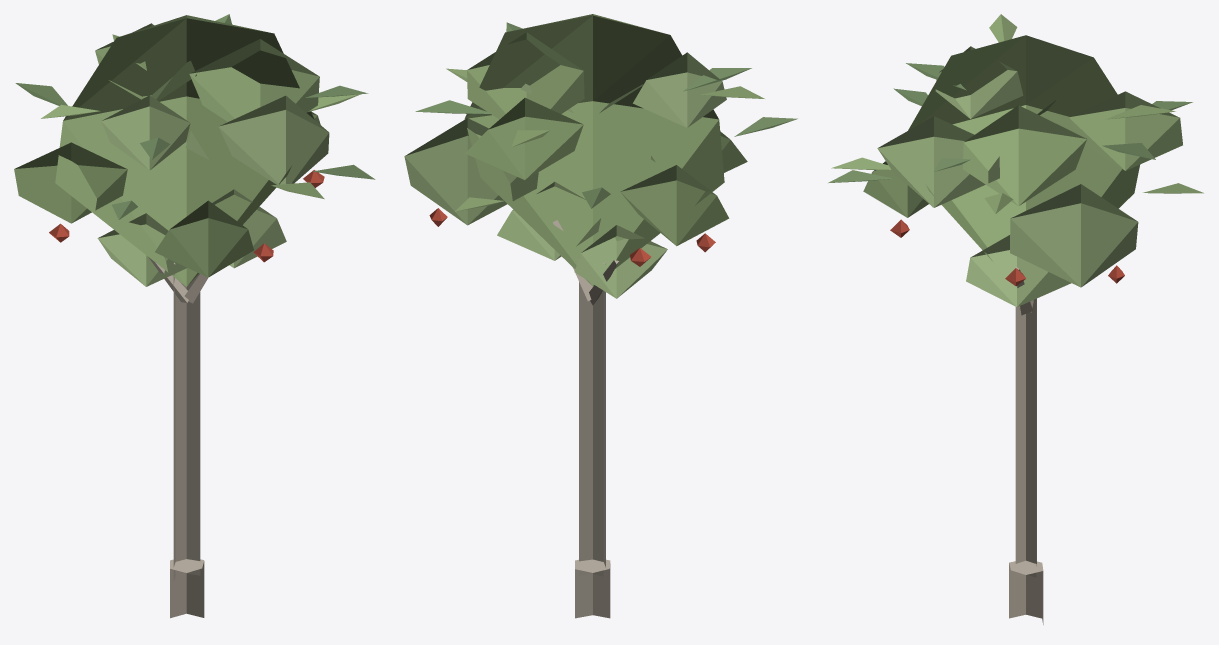
The model's file is shu.baigan@fruiting__summer.glb.
The picture shows the model from 3 angles, left to right: view 1: azimuth 30°, elevation 25°; view 2: azimuth 150°, elevation 25°; view 3: azimuth 270°, elevation 25°; orthographic projection. The views are drawn at different scales.
Visible parts, largest first — view 1: shu.baigan@fruiting__summer; view 2: shu.baigan@fruiting__summer; view 3: shu.baigan@fruiting__summer.
Boxes of the visible parts, <box> form: shu.baigan@fruiting__summer: <box>14,14,375,618</box>; shu.baigan@fruiting__summer: <box>404,14,797,618</box>; shu.baigan@fruiting__summer: <box>828,14,1203,624</box>.
Bounding box in the file's own units: 8.39 × 15.12 × 8.8.
